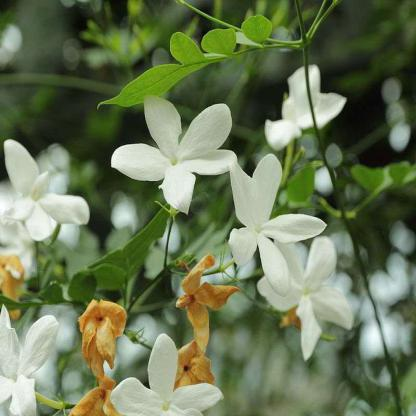Melati: (234, 136, 347, 365), (119, 98, 227, 213), (1, 139, 88, 253), (1, 292, 81, 409), (123, 327, 219, 416), (275, 45, 330, 156)
